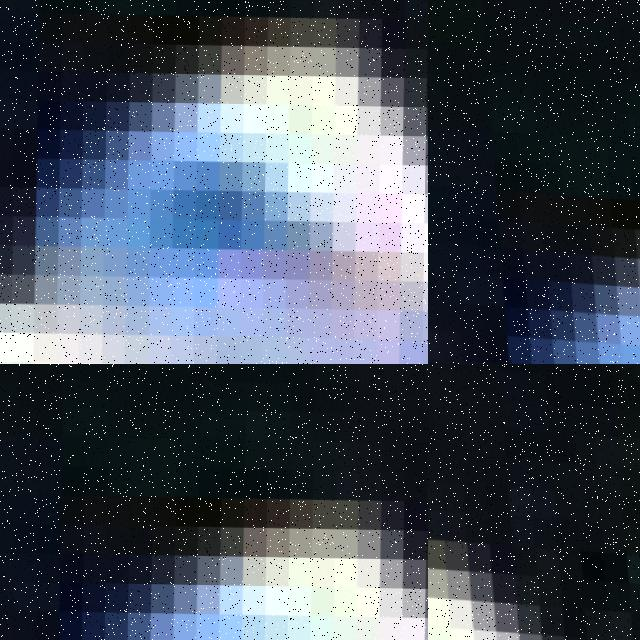drone: (428, 0, 640, 364), (428, 364, 640, 640)
